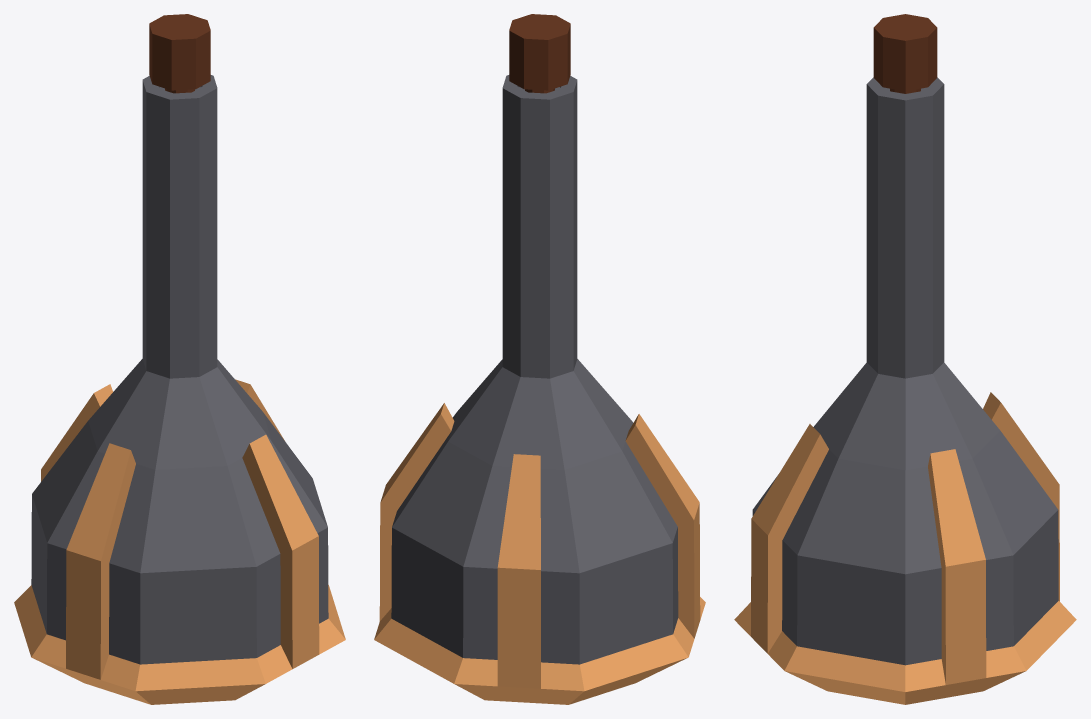
File: potion_silver.glb
3 views of the same model, side by side, from view 1: azimuth 30°, elevation 25°; view 2: azimuth 150°, elevation 25°; view 3: azimuth 270°, elevation 25° (orthographic).
Visible parts, largest first — view 1: Potion; view 2: Potion; view 3: Potion.
Boxes of the visible parts, left/top/right/bottom form: Potion: left=14, top=14, right=345, bottom=704; Potion: left=374, top=14, right=705, bottom=704; Potion: left=734, top=14, right=1076, bottom=704.
Size of the model in its own units: 0.5738 by 1.17 by 0.5738.
